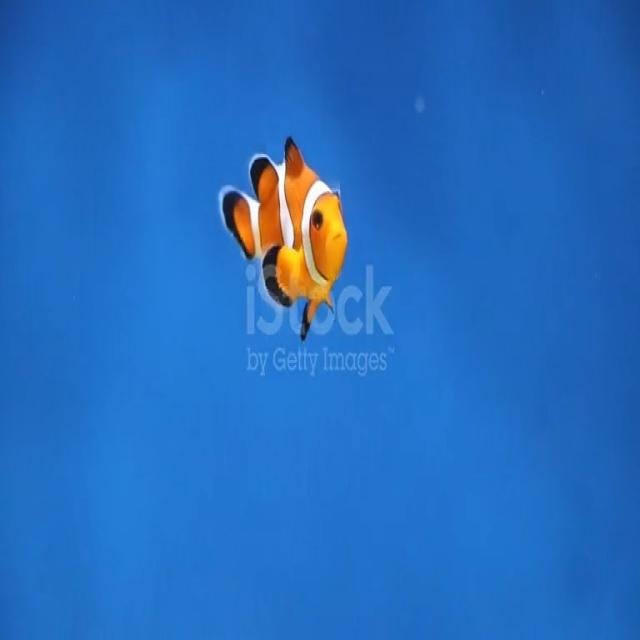fish: (216, 118, 352, 342)
